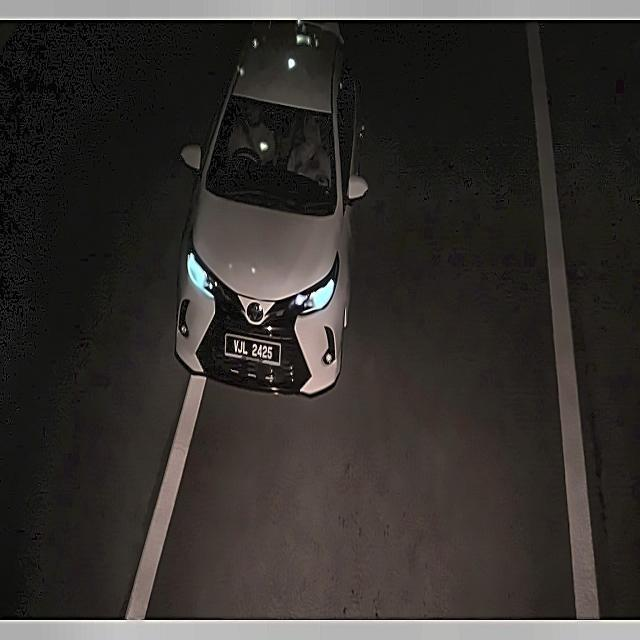car: (216, 324, 285, 374)
